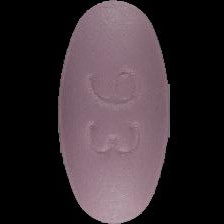0093-7477: (0, 0, 224, 224)
